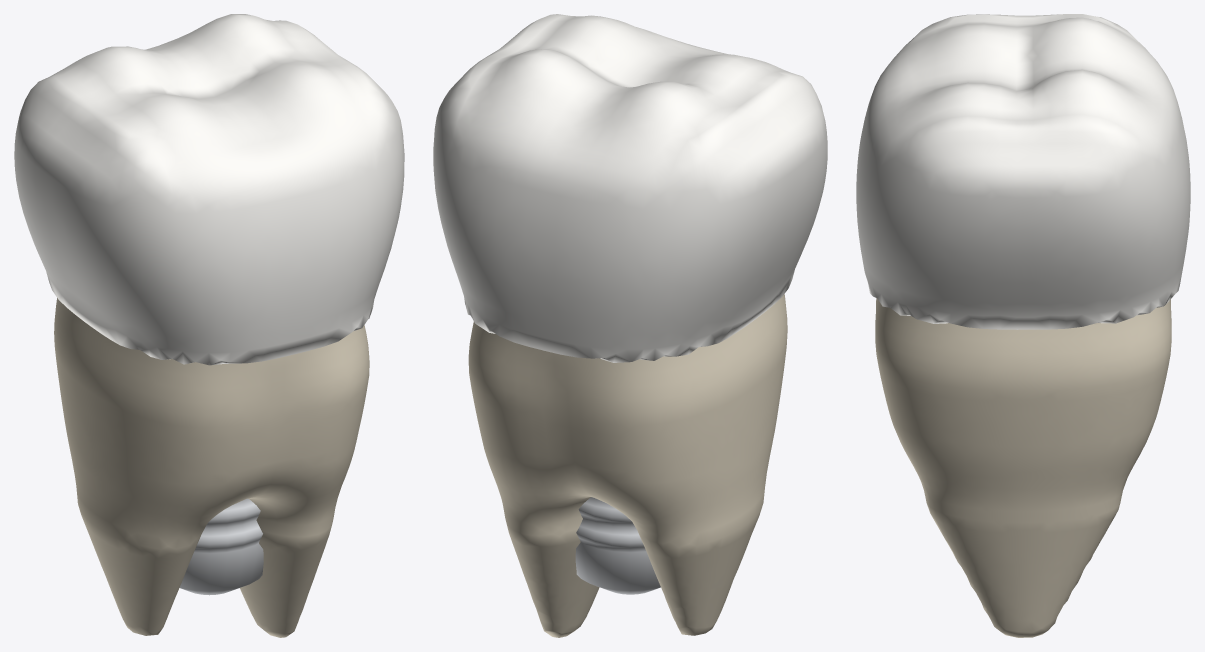
3 views of the same model, side by side, from view 1: azimuth 30°, elevation 25°; view 2: azimuth 150°, elevation 25°; view 3: azimuth 270°, elevation 25° (orthographic). The views are drawn at different scales.
Visible parts, largest first — view 1: crown, root, implant; view 2: crown, root, implant; view 3: crown, root.
Part boxes in pixels (left/top/right/bottom): crown: left=14, top=14, right=404, bottom=365; root: left=54, top=298, right=369, bottom=637; implant: left=179, top=498, right=263, bottom=595; crown: left=433, top=14, right=827, bottom=362; root: left=468, top=294, right=787, bottom=637; implant: left=575, top=497, right=660, bottom=594; crown: left=856, top=14, right=1190, bottom=329; root: left=875, top=298, right=1171, bottom=637.
Size of the model in its own units: 10.69 by 18.85 by 10.2.
